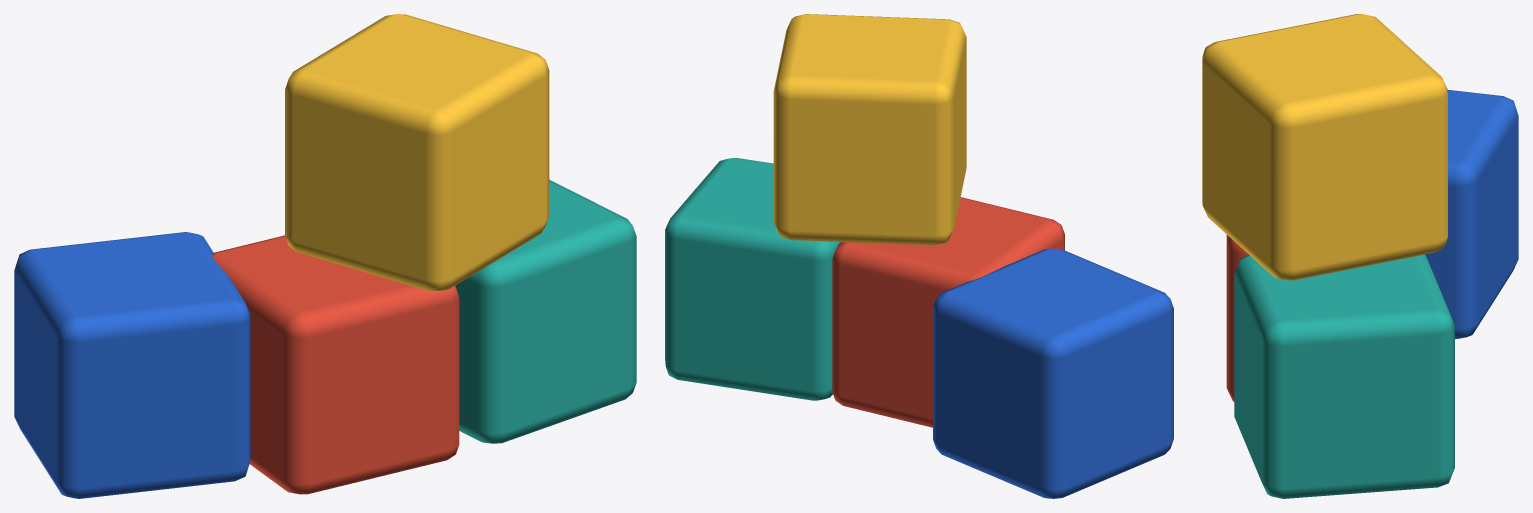
The model's file is ENV_ToyBlocks.glb.
3 renders of one model, left to right at view 1: azimuth 30°, elevation 25°; view 2: azimuth 150°, elevation 25°; view 3: azimuth 270°, elevation 25°, orthographic. The views are drawn at different scales.
Parts seen in each view (by area): view 1: Block_2, Block_3, Block_0, Block_1; view 2: Block_3, Block_2, Block_1, Block_0; view 3: Block_2, Block_1, Block_3, Block_0.
Part boxes in pixels (<box>): Block_2: <box>285,14,549,291</box>; Block_3: <box>14,232,250,498</box>; Block_0: <box>212,235,459,494</box>; Block_1: <box>455,179,636,443</box>; Block_3: <box>933,248,1173,498</box>; Block_2: <box>773,14,966,245</box>; Block_1: <box>665,158,840,400</box>; Block_0: <box>832,197,1064,427</box>; Block_2: <box>1202,14,1447,280</box>; Block_1: <box>1234,254,1454,498</box>; Block_3: <box>1425,89,1518,339</box>; Block_0: <box>1226,235,1248,401</box>.
Bounding box in the file's own units: 3.1 × 2 × 1.61.
